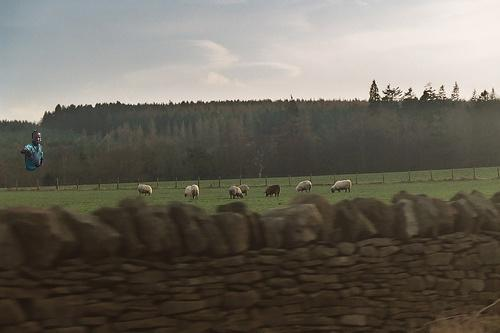tampered: (22, 131, 43, 171)
